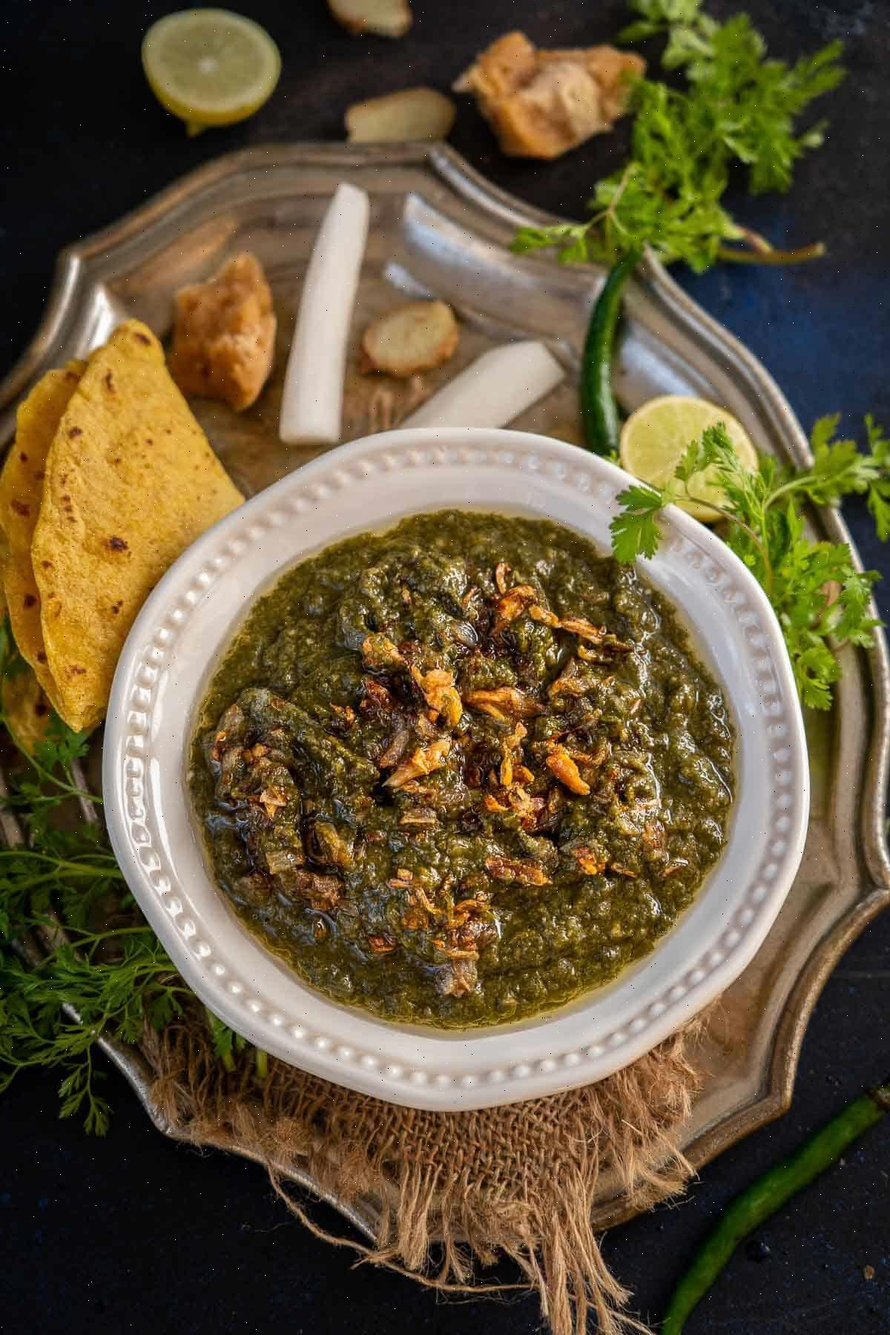saag: (198, 512, 744, 1017)
